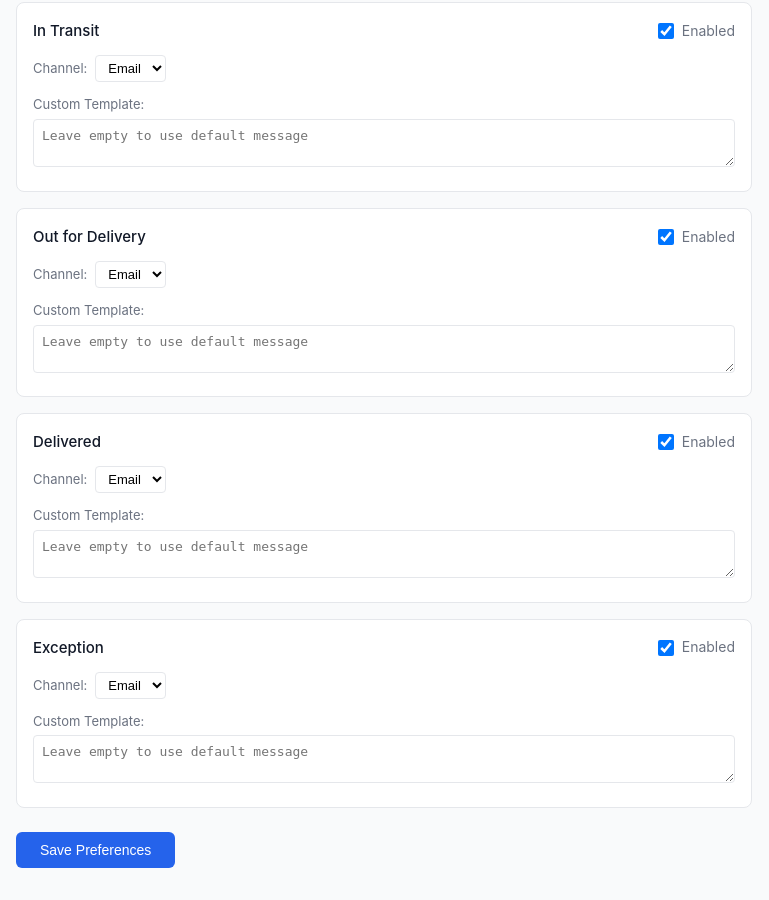
it: NotificationSettings › shows error when save fails
The image size is (769, 900).
(page scrolled)
Click the button with test id "save-button" at (96, 850), box x1=16 y1=832 x2=175 y2=868
(page scrolled)
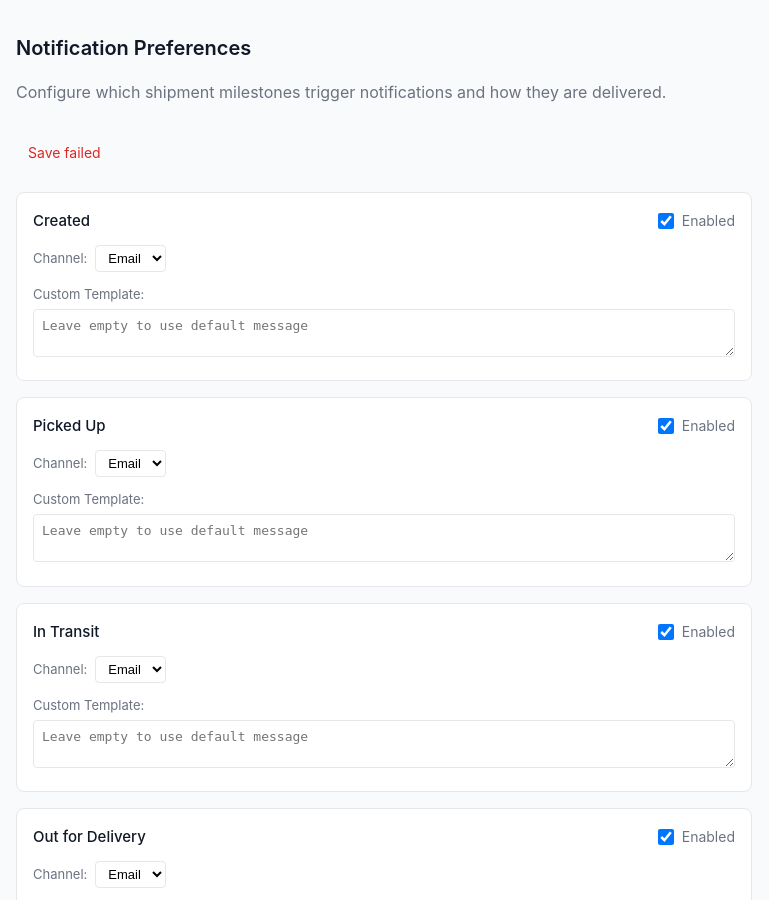
Result: the text "Save failed" is shown at x1=28 y1=144 x2=101 y2=161
